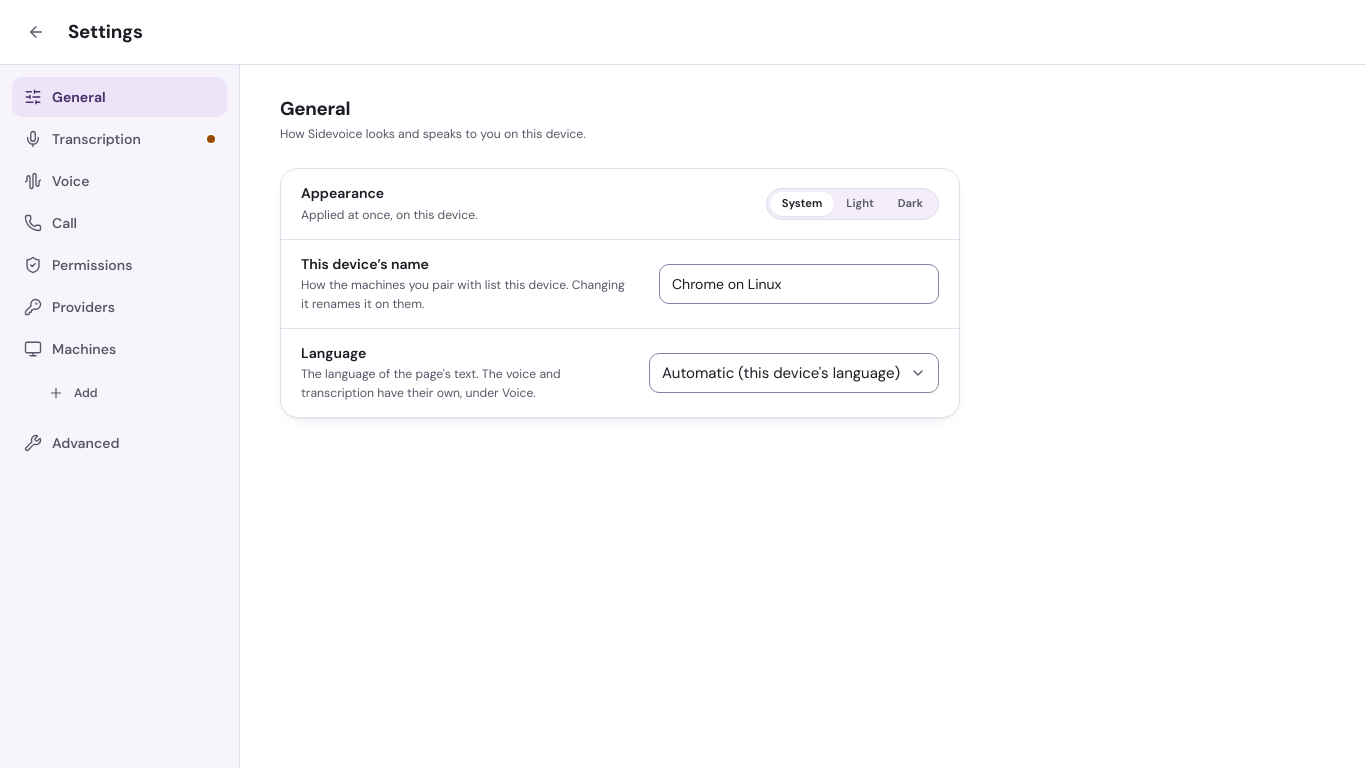
no Save: a model chosen that is not here says the one in use stays until it is ready
Click the button with id "settings-transcription".
click(120, 139)  # box [12,119,227,159]
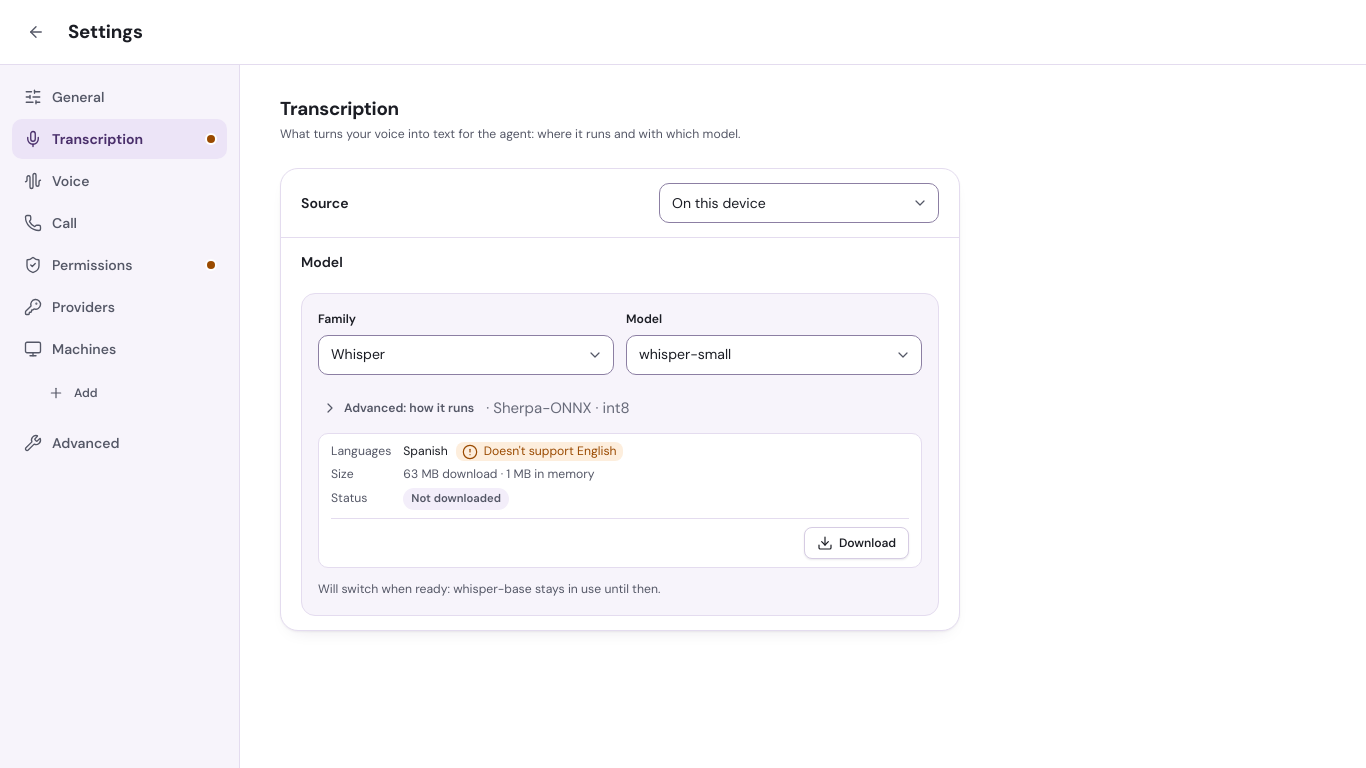
expect the element with id "stt-model-card" shows "Will switch when ready: whisper-base stays in use until then.": met, box [318,581,660,597]
